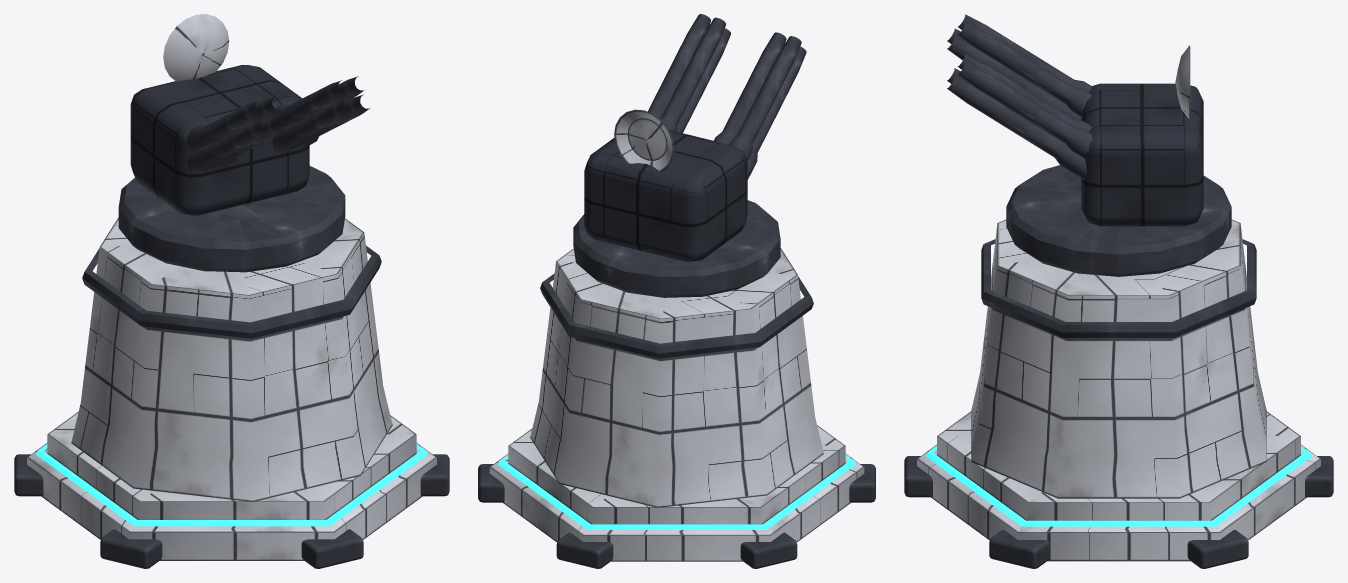
The model's file is sf_skyguard.glb.
3 renders of one model, left to right at view 1: azimuth 30°, elevation 25°; view 2: azimuth 150°, elevation 25°; view 3: azimuth 270°, elevation 25°, orthographic. The views are drawn at different scales.
Parts seen in each view (by area): view 1: Base, Turret; view 2: Base, Turret; view 3: Base, Turret.
Boxes of the visible parts, bbox=[...] form: Base: bbox=[14, 217, 449, 568]; Turret: bbox=[118, 14, 370, 272]; Base: bbox=[478, 248, 875, 568]; Turret: bbox=[573, 14, 806, 297]; Base: bbox=[904, 219, 1333, 568]; Turret: bbox=[947, 14, 1231, 276].
Size of the model in its own units: 0.8425 by 1.05 by 0.9128.
4 materials, 4 textured.
